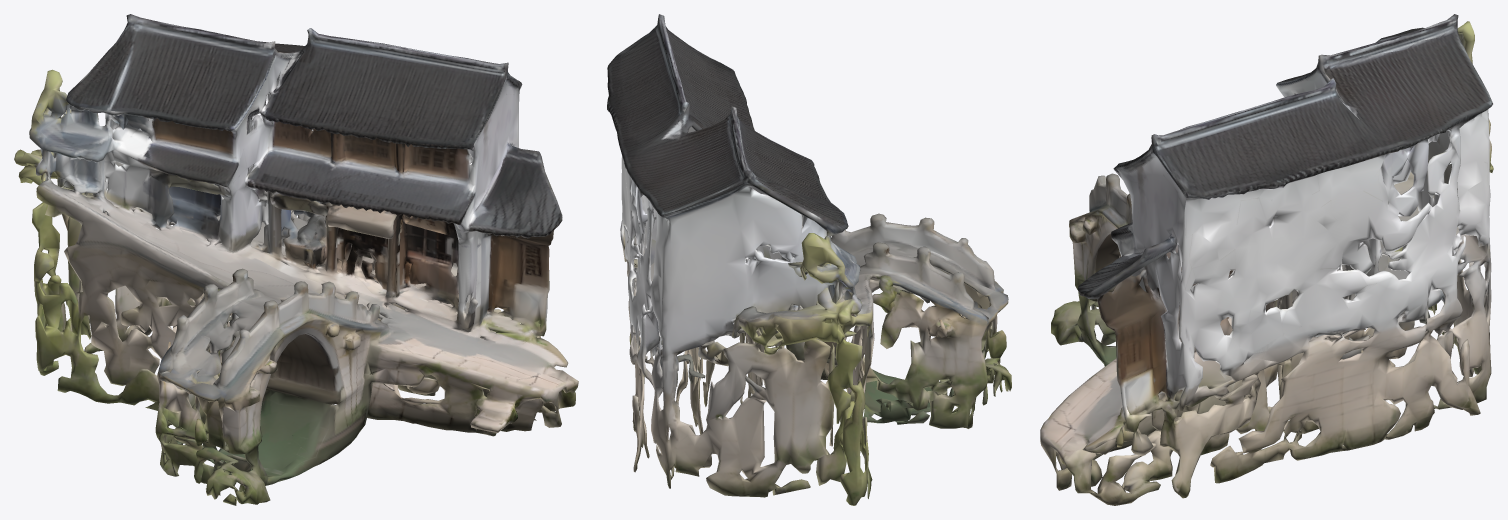
3 renders of one model, left to right at view 1: azimuth 30°, elevation 25°; view 2: azimuth 150°, elevation 25°; view 3: azimuth 270°, elevation 25°, orthographic. The views are drawn at different scales.
Visible parts, largest first — view 1: material.001; view 2: material.001; view 3: material.001.
Part boxes in pixels (left/top/right/bottom): material.001: left=14, top=14, right=578, bottom=505; material.001: left=607, top=14, right=1011, bottom=505; material.001: left=1040, top=14, right=1493, bottom=505.
Bounding box in the file's own units: 0.7917 × 0.6935 × 0.7858.
1 material, 1 textured.
